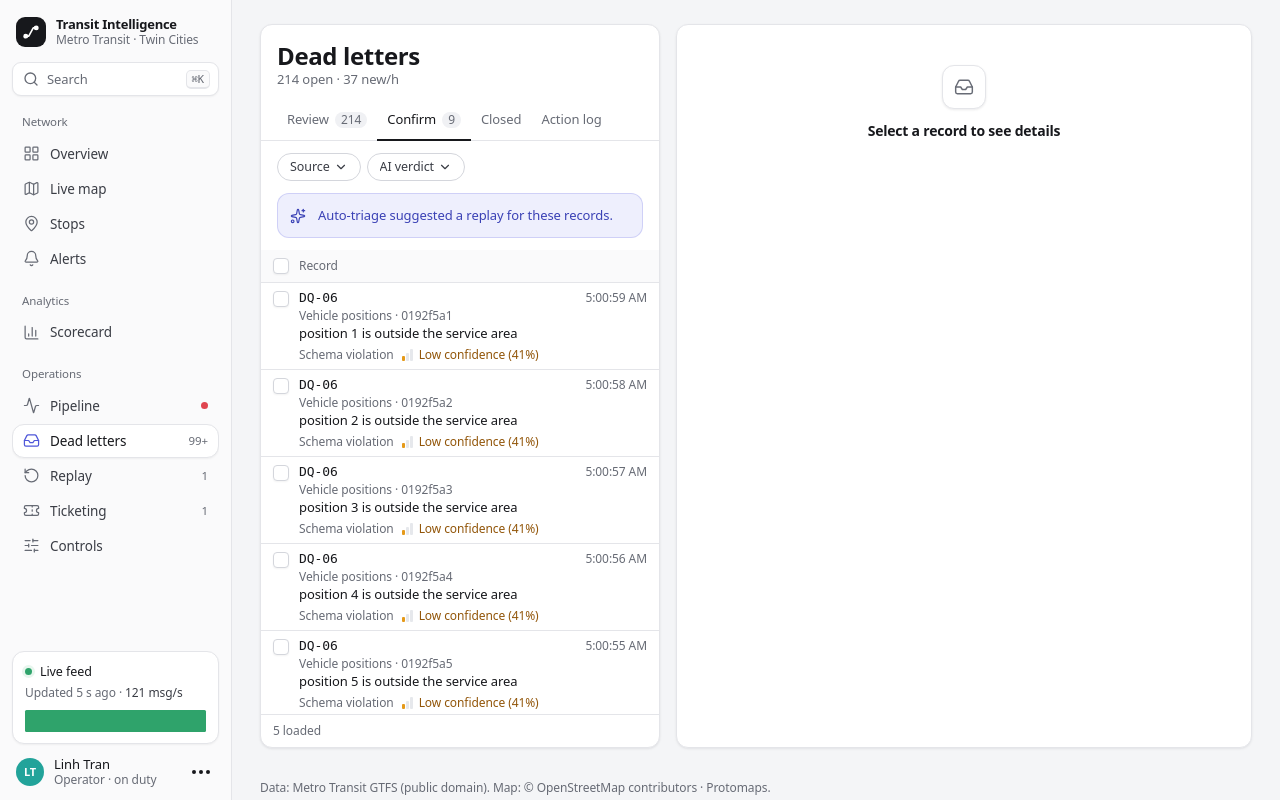
Test: Dead letters › as an operator › AC-4 confirms five records, four requests at a time, each with its own key, and counts them
Click the checkbox named "Select the loaded records".
click(281, 266)  # box left=273, top=258, right=289, bottom=274
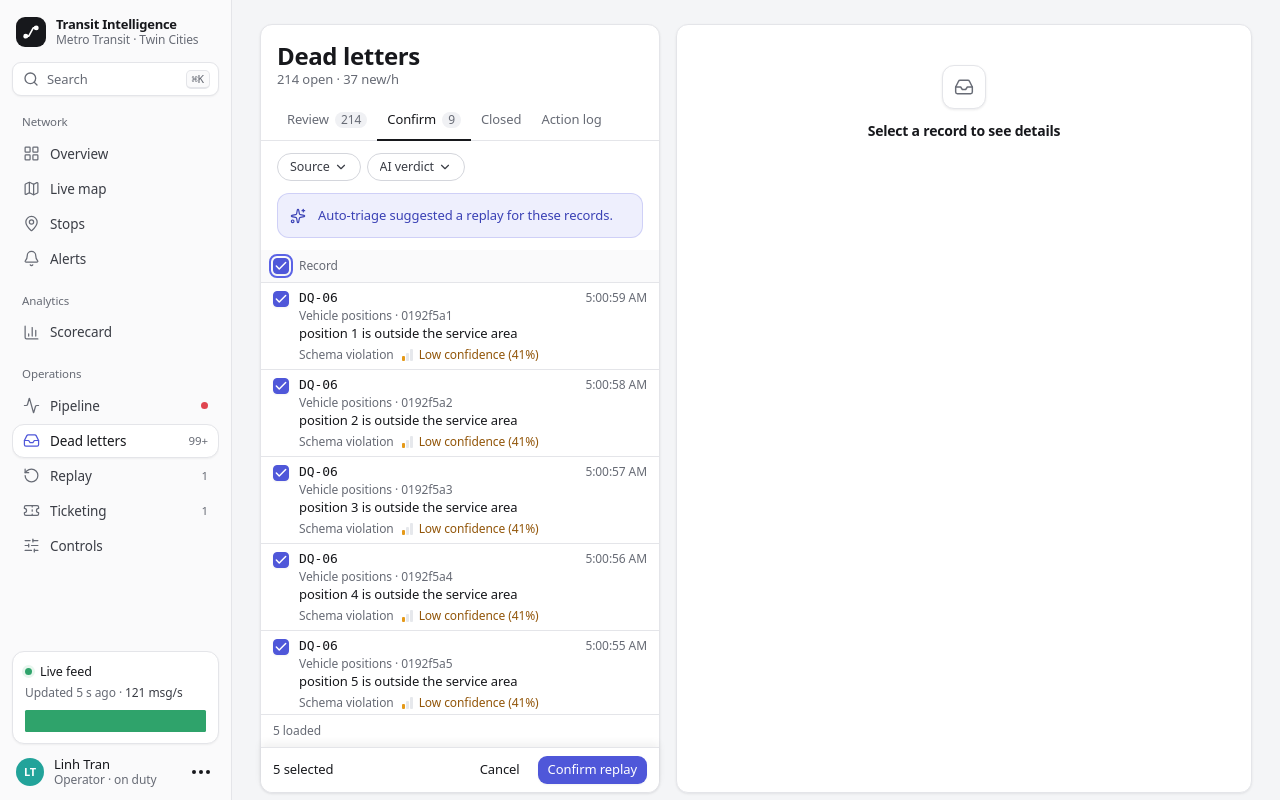
Click the button "Confirm replay".
click(592, 770)  # box left=538, top=756, right=647, bottom=784
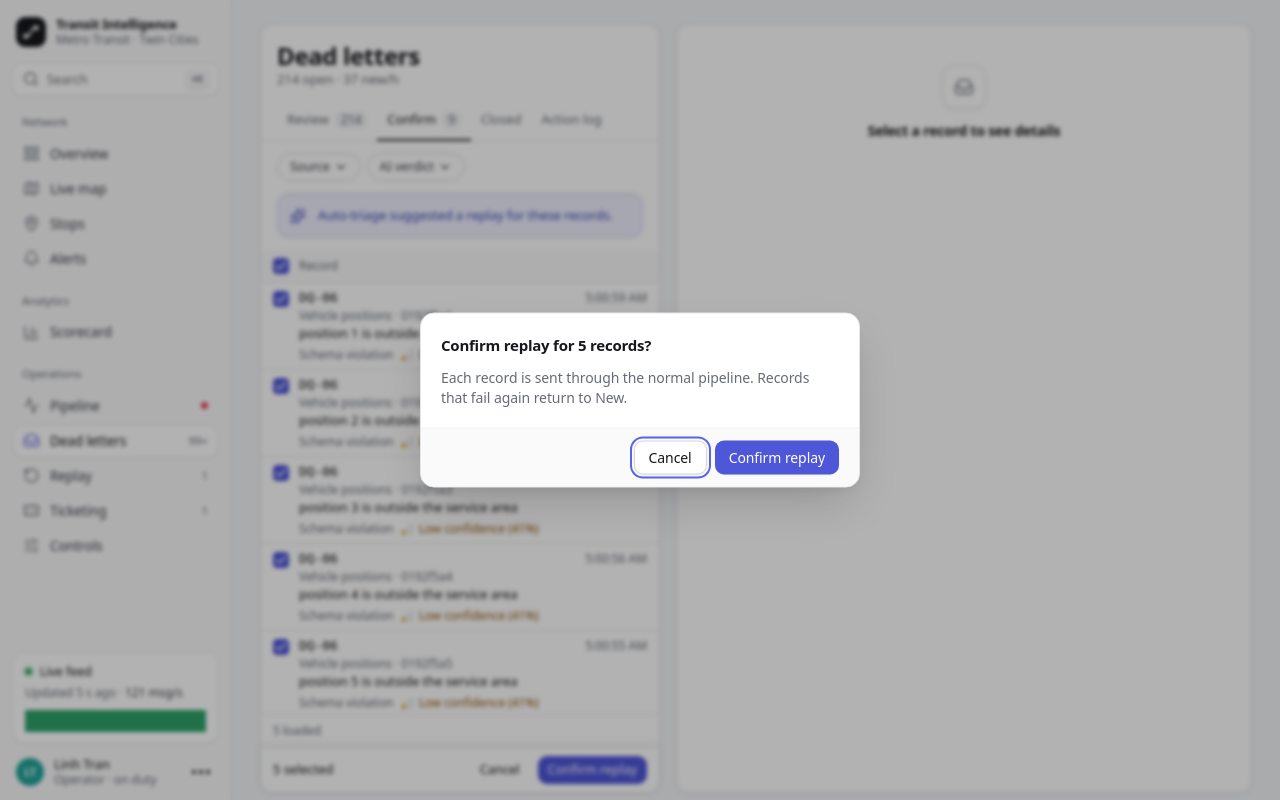
Click the button "Confirm replay".
click(777, 458)  # box left=715, top=440, right=839, bottom=474
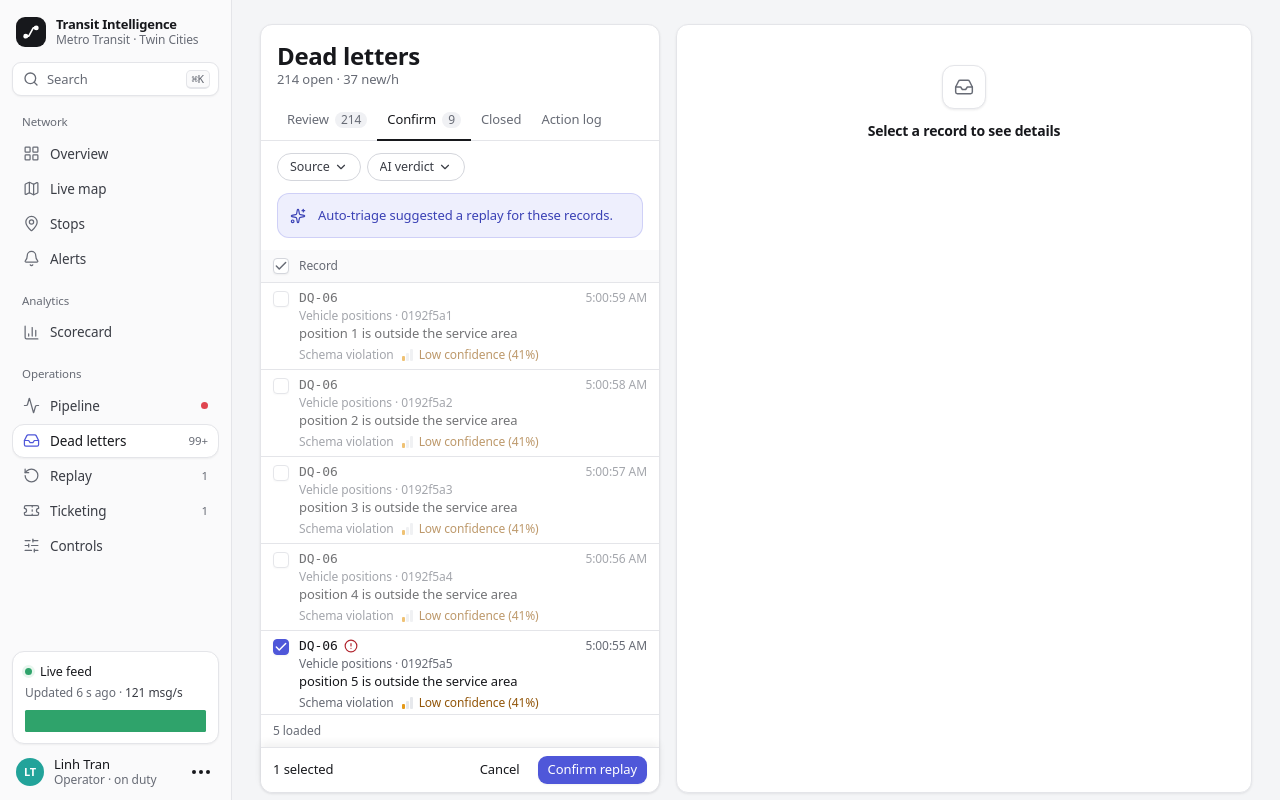
Expected: the icon named "This record failed:" is shown, left=344, top=639, right=358, bottom=653
